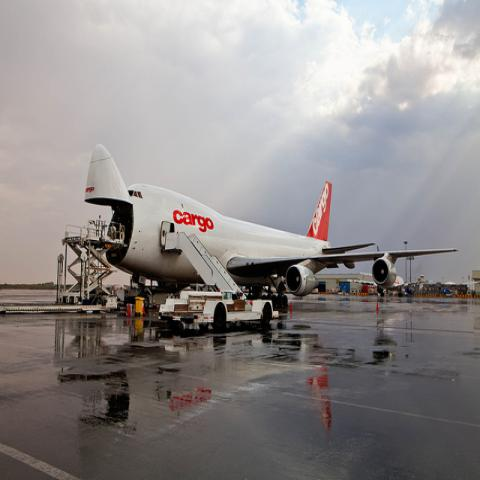truck: (157, 291, 273, 334)
